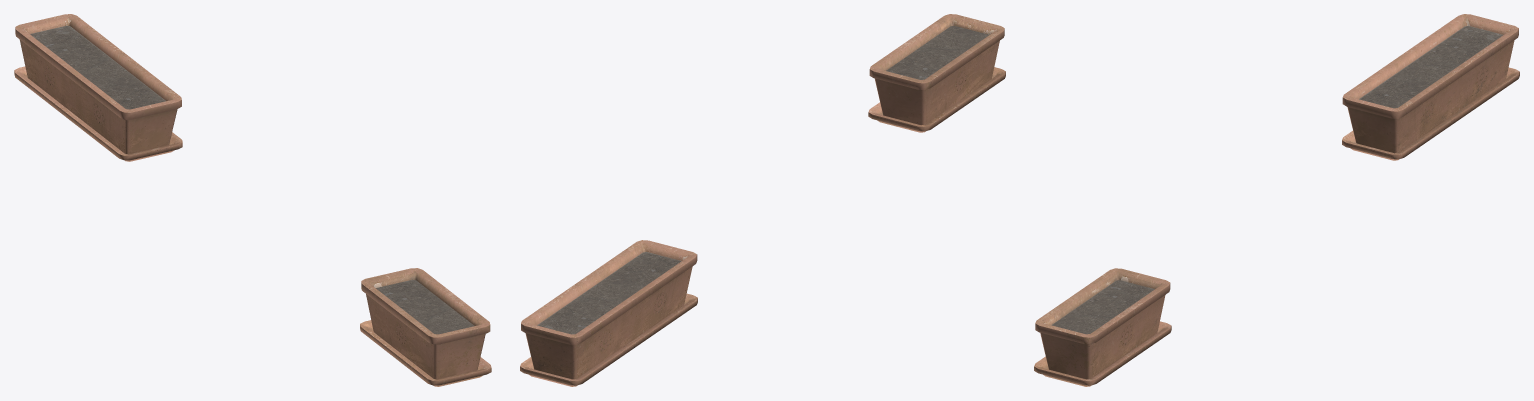
File: InfernoMacetas.fbx
3 views of the same model, side by side, from view 1: azimuth 30°, elevation 25°; view 2: azimuth 150°, elevation 25°; view 3: azimuth 330°, elevation 25° (orthographic).
Visible parts, largest first — view 1: node000_world_lr0_agg299_18_pk01_planter_01.001; view 2: node000_world_lr0_agg299_18_pk01_planter_01.001; view 3: node000_world_lr0_agg299_18_pk01_planter_01.001.
Part boxes in pixels (<box>): node000_world_lr0_agg299_18_pk01_planter_01.001: <box>14,14,491,386</box>; node000_world_lr0_agg299_18_pk01_planter_01.001: <box>520,14,1005,386</box>; node000_world_lr0_agg299_18_pk01_planter_01.001: <box>1034,14,1519,386</box>.
Size of the model in its own units: 43.34 by 32.74 by 477.
